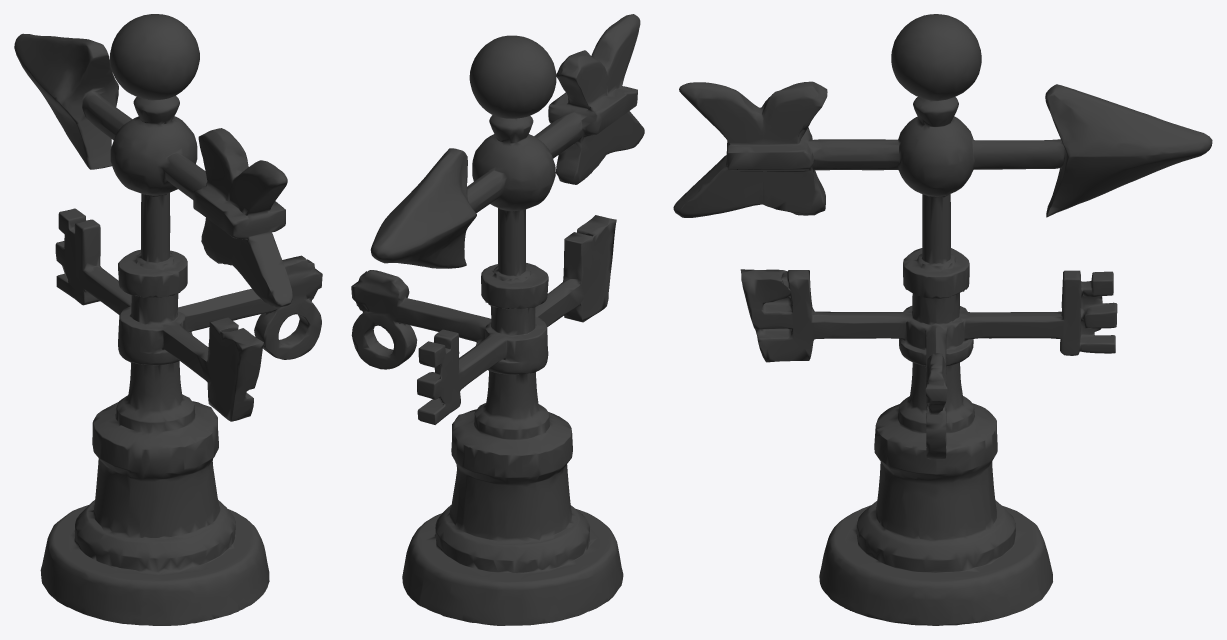
Rendered from pr_veleta.glb.
3 renders of one model, left to right at view 1: azimuth 30°, elevation 25°; view 2: azimuth 150°, elevation 25°; view 3: azimuth 270°, elevation 25°, orthographic. The views are drawn at different scales.
Parts seen in each view (by area): view 1: geometry_0; view 2: geometry_0; view 3: geometry_0.
Part boxes in pixels (box(x1,y1,x2,y2)): geometry_0: box(14, 14, 322, 625); geometry_0: box(351, 14, 644, 625); geometry_0: box(673, 14, 1212, 625).
Size of the model in its own units: 0.4831 by 0.9875 by 0.8626.
1 material, 1 textured.
